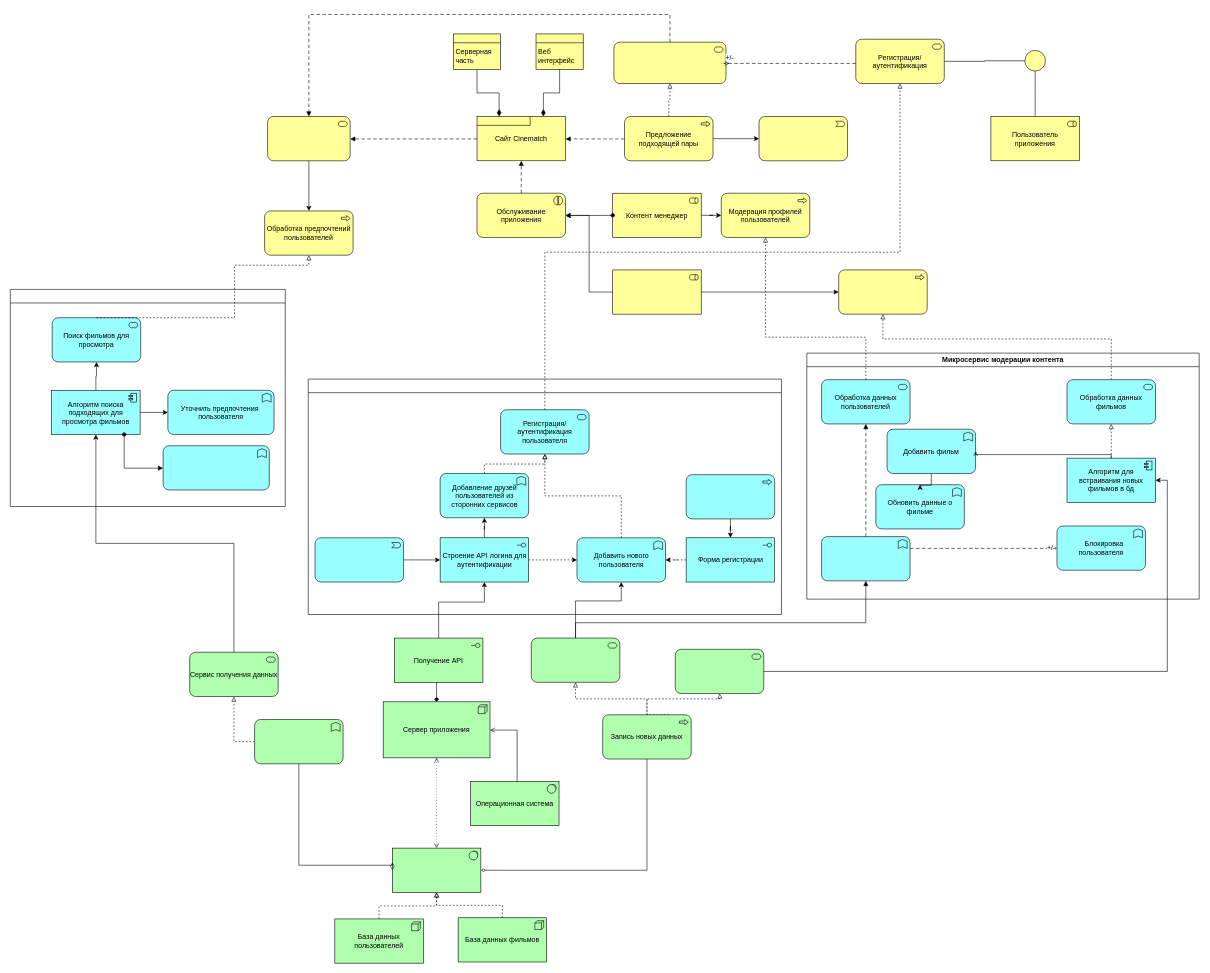
Some shapes in this 1210 by 973 pixel diagram are drawn without their labels. The box of each missing label's shape, as (x1, y1, x2, y2) in pixels:
Аутентификация пользователя: (314, 537, 404, 582)
веб-клиент приложения: (1024, 50, 1045, 92)
Микросервис аунтефикации: (308, 378, 781, 614)
Микросервис поиска фильмов: (10, 289, 285, 507)
Модератор приложения: (612, 269, 701, 314)
Найти подходящий фильм для просмотра парой пользователей: (163, 445, 269, 490)
Обеспечение доступа к данным: (254, 719, 343, 764)
Подбор пары: (758, 116, 848, 161)
Пополнение списка фильмов: (838, 269, 927, 314)
Проверка данных о пользователе: (821, 536, 910, 581)
Регистрация пользователя: (686, 474, 775, 519)
Сбор информации о предпочтениях пользователей: (267, 116, 350, 161)
Сервис для просмотра кино: (613, 42, 726, 83)
Сервис записи данных о пользователе: (531, 637, 620, 682)
Сервис записи данных о фильме: (675, 649, 764, 694)
СУБД: (392, 848, 481, 892)
